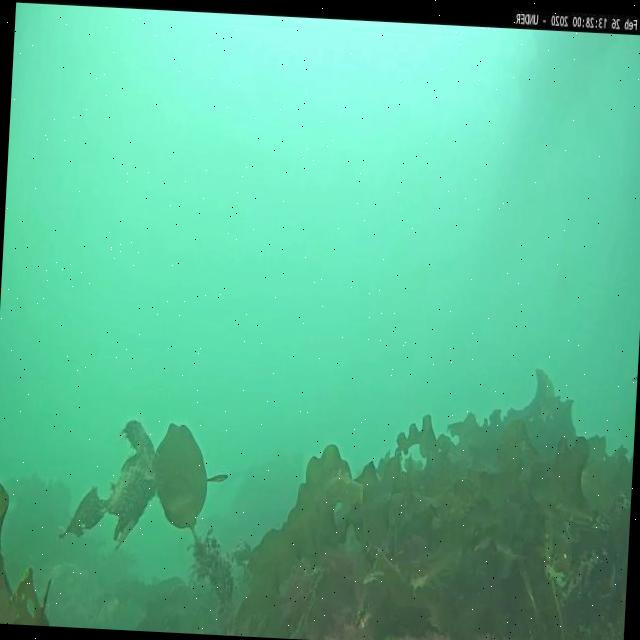fish: (204, 472, 230, 485)
